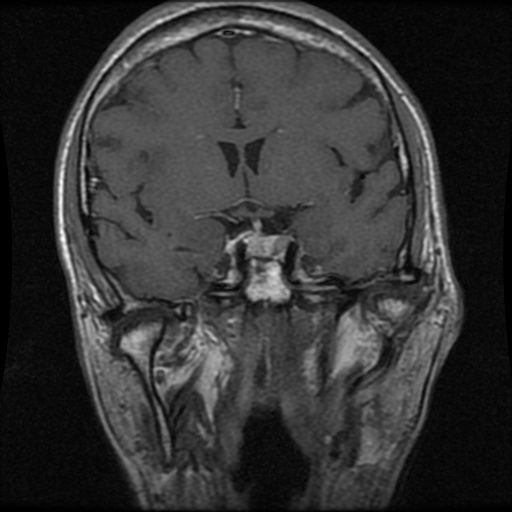pituitary: (245, 233, 285, 257)
